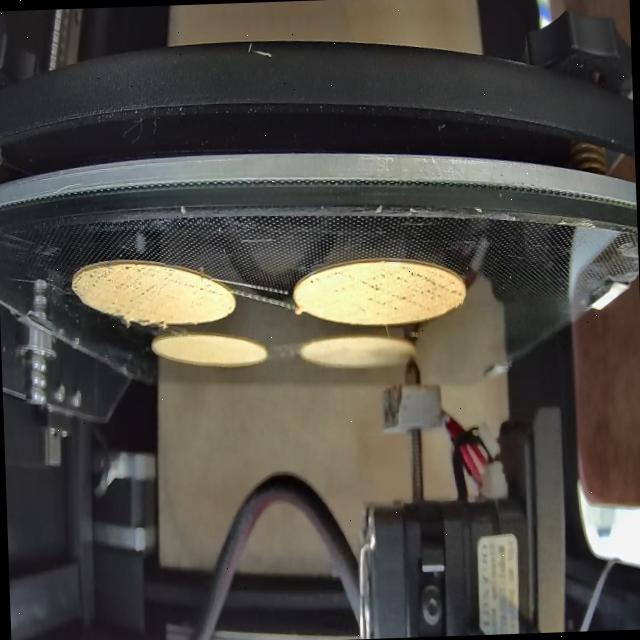under_extrusion: (364, 266, 461, 315), (88, 266, 155, 308), (170, 270, 221, 296), (306, 268, 348, 290)
